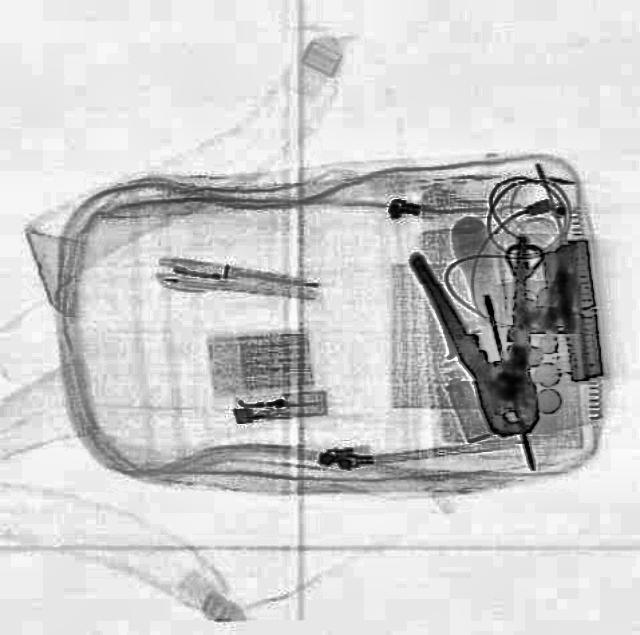Pliers: (410, 233, 572, 449)
